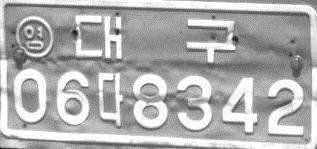0: (12, 67, 47, 124)
2: (267, 78, 305, 137)
3: (175, 75, 213, 131)
4: (221, 76, 258, 133)
6: (55, 70, 90, 126)
8: (132, 72, 168, 129)
다: (97, 71, 124, 127)
대구_D: (73, 13, 236, 65)
영: (15, 14, 53, 59)
